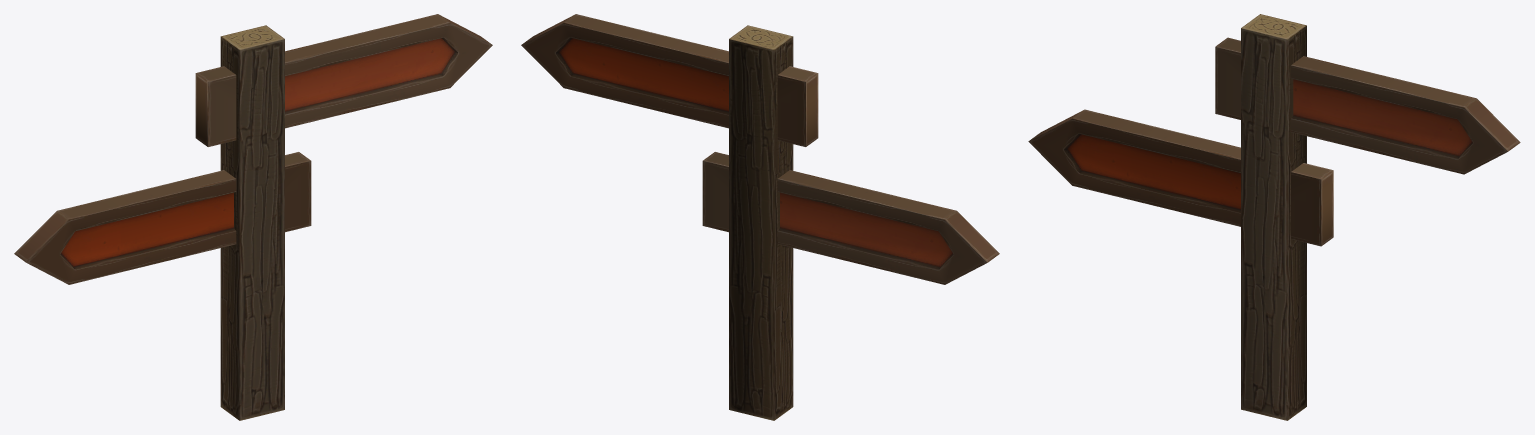
The model's file is SM_SignBoard_01_B.glb.
The picture shows the model from 3 angles, left to right: view 1: azimuth 30°, elevation 25°; view 2: azimuth 150°, elevation 25°; view 3: azimuth 330°, elevation 25°; orthographic projection. The views are drawn at different scales.
Parts seen in each view (by area): view 1: SM_SignBoard_01_B; view 2: SM_SignBoard_01_B; view 3: SM_SignBoard_01_B.
Part boxes in pixels (x1,y1,x2,y2): SM_SignBoard_01_B: [14, 14, 492, 420]; SM_SignBoard_01_B: [521, 14, 999, 420]; SM_SignBoard_01_B: [1028, 14, 1520, 420].
Bounding box in the file's own units: 1.97 × 1.5 × 0.1384.
1 material, 1 textured.
